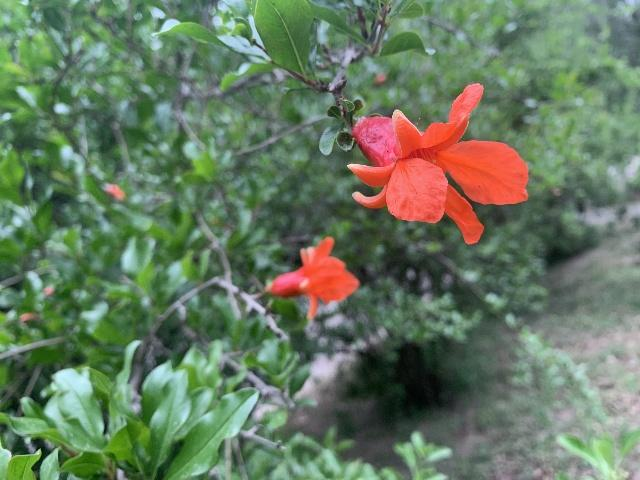flower: (344, 83, 530, 246), (268, 235, 359, 319)
